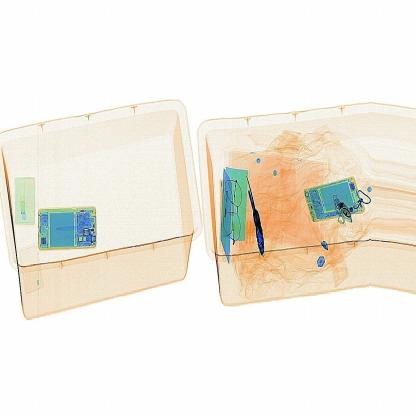wrench: (238, 165, 275, 268)
